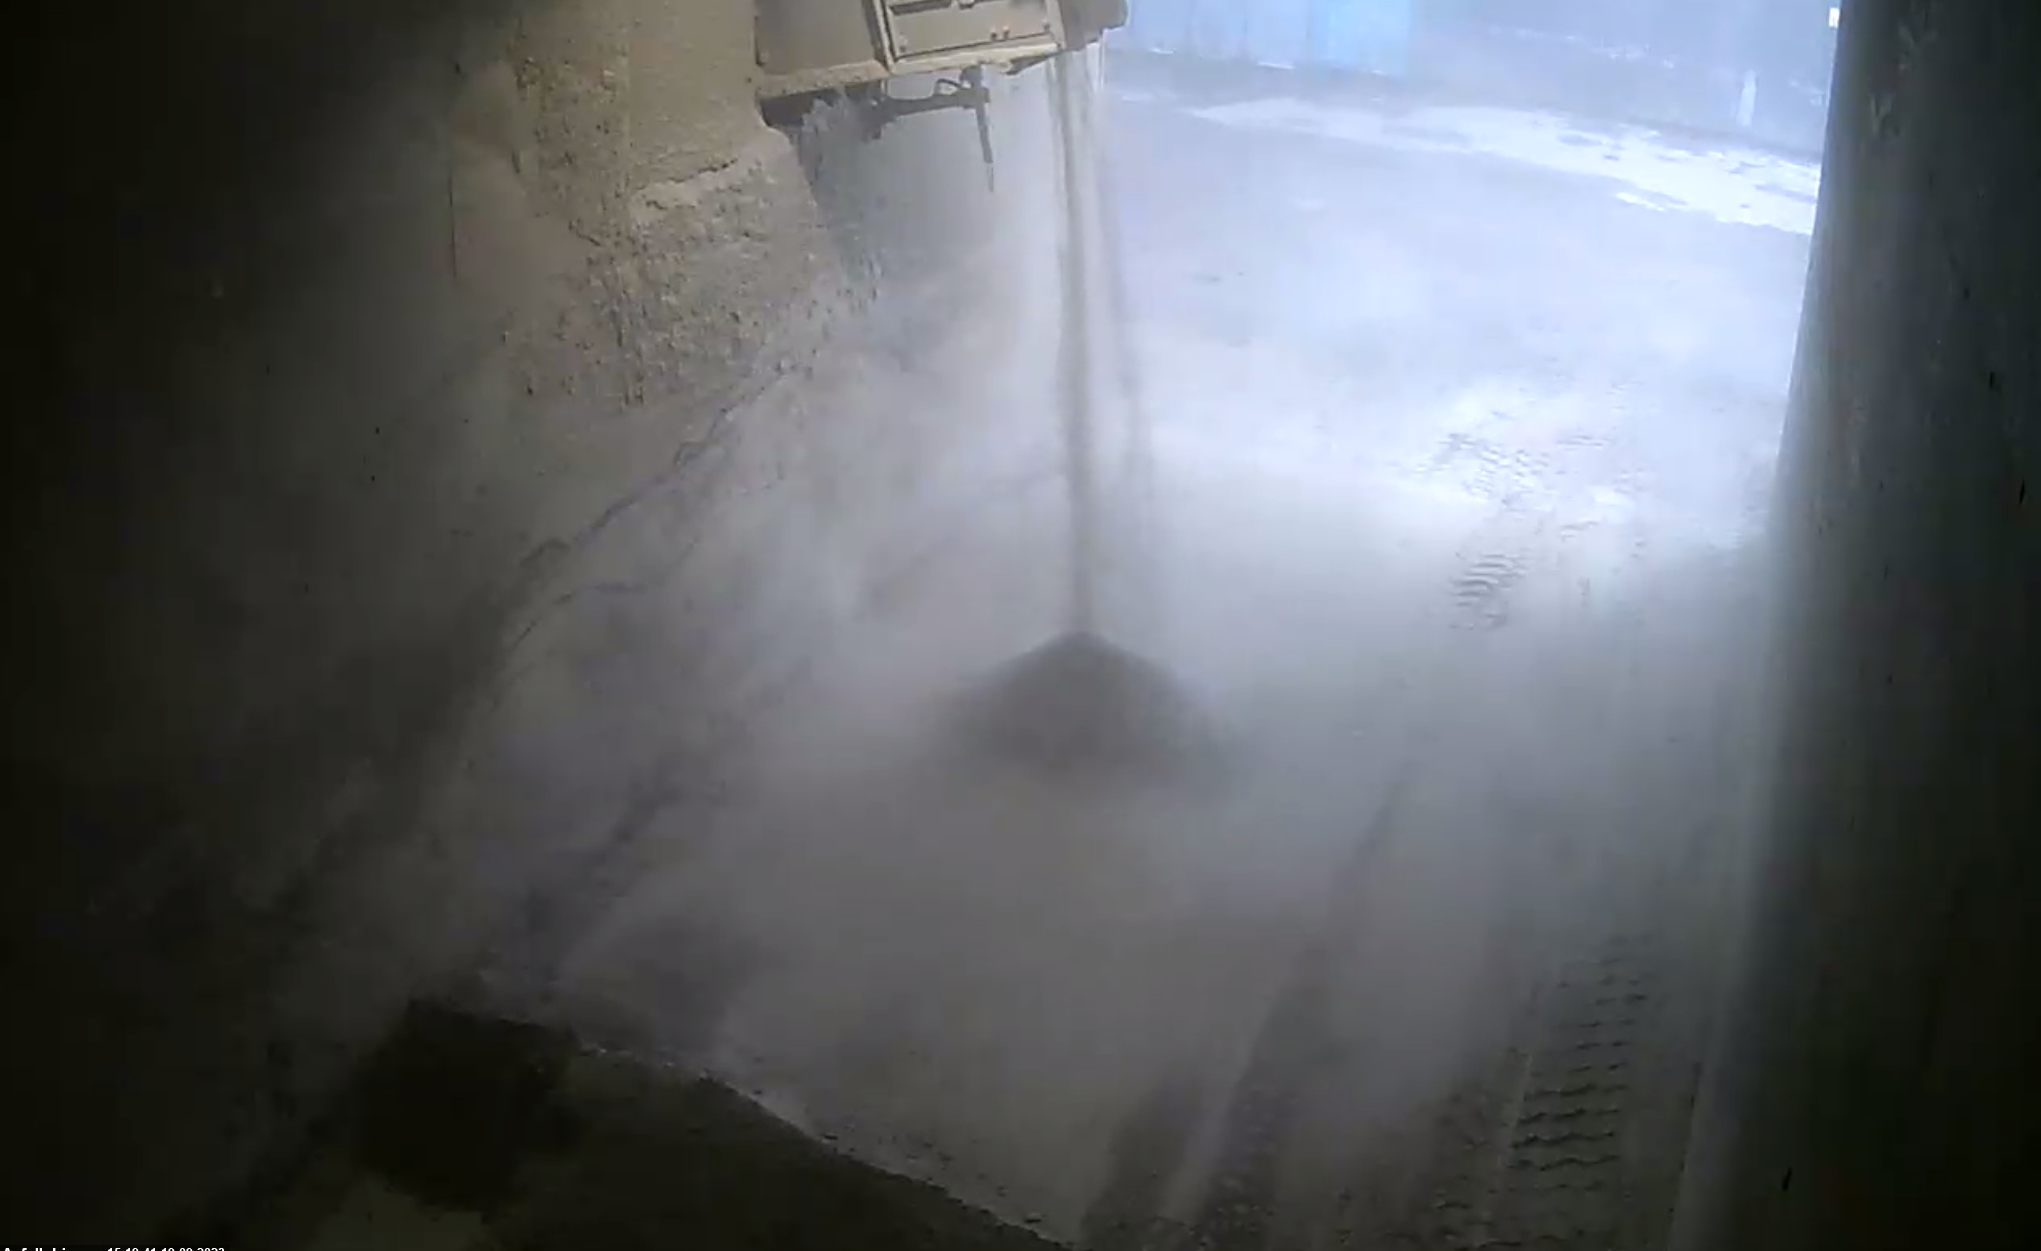pile: (964, 633, 1222, 771)
